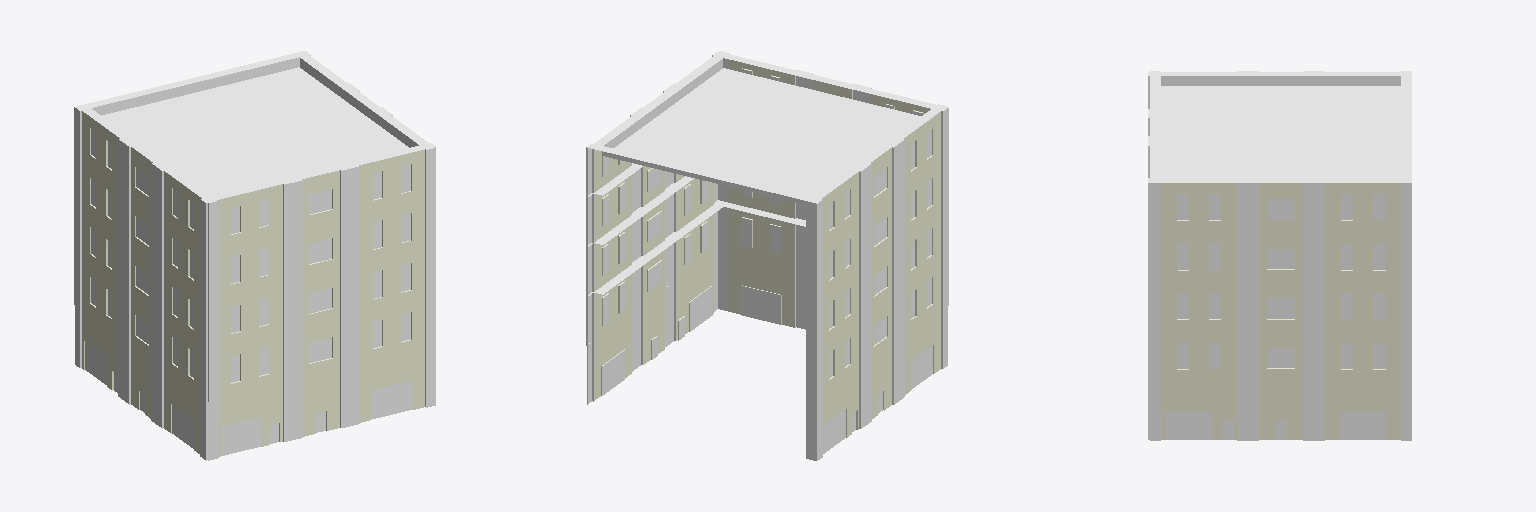
The model's file is ShortBuilding2.obj.
The picture shows the model from 3 angles: view 1: azimuth 30°, elevation 25°; view 2: azimuth 150°, elevation 25°; view 3: azimuth 270°, elevation 25°; orthographic projection.
Parts seen in each view (by area): view 1: ShortBuilding2; view 2: ShortBuilding2; view 3: ShortBuilding2.
Boxes of the visible parts, <box> form: ShortBuilding2: <box>74,51,435,460</box>; ShortBuilding2: <box>586,51,948,460</box>; ShortBuilding2: <box>1148,71,1411,440</box>.
Size of the model in its own units: 24.36 by 26 by 24.19.